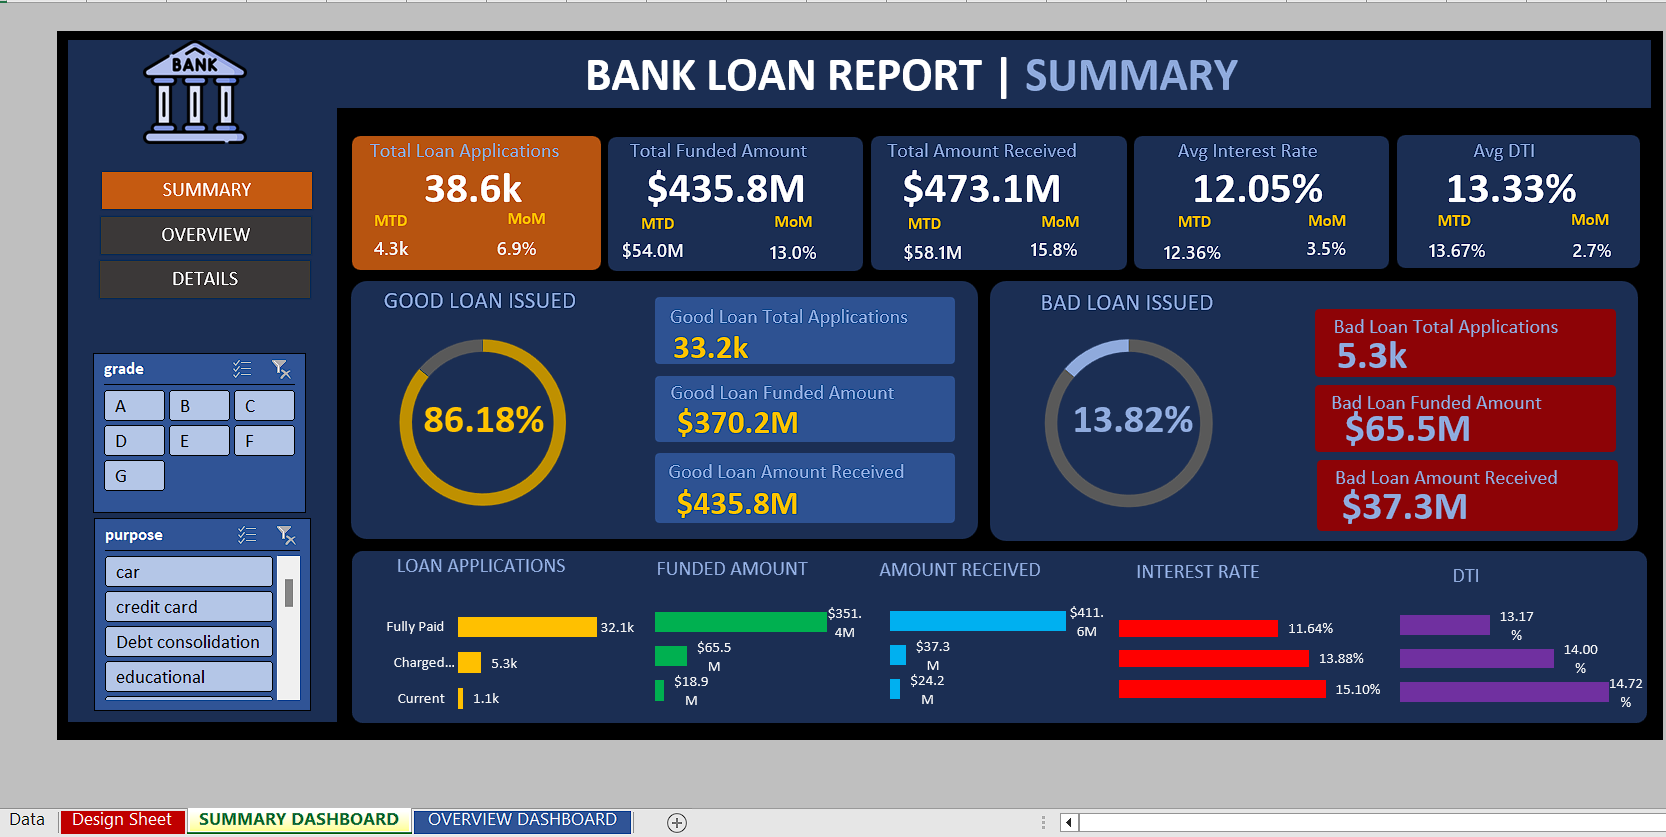

The page's visual inventory and layout, read from the dashboard file:
{"tool":"powerbi","page":{"name":"SUMMARY","canvas":[1280,720],"ordinal":0},"visuals":[{"type":"shape","box":[0,0,1279.6,55.5],"z":0},{"type":"shape","box":[199.6,65.9,194.6,119.6],"z":1000},{"type":"shape","box":[1.2,55.4,184.3,665.1],"z":2000},{"type":"textbox","box":[307.6,3.3,453.3,52.2],"z":3000},{"type":"card","fields":{"Values":["bank_loan_data.Total Loan Applications"]},"box":[194.3,94.8,194.6,41.3],"z":4000},{"type":"textbox","box":[209.6,67.6,179.3,34.8],"z":5000},{"type":"card","title":"MTD","fields":{"Values":["bank_loan_data.MTD Loan Applications"]},"box":[218.3,136.1,51.1,50],"z":6000},{"type":"card","title":"MoM","fields":{"Values":["bank_loan_data.MoM Loan Application"]},"box":[308.5,136.1,51.1,50],"z":7000},{"type":"shape","box":[408.6,68.5,194.6,117.4],"z":8000},{"type":"card","fields":{"Values":["bank_loan_data.Total Funded Amount"]},"box":[404.3,95.2,194.6,41.3],"z":9000},{"type":"textbox","box":[419.6,68,179.3,34.8],"z":10000},{"type":"card","title":"MTD","fields":{"Values":["bank_loan_data.MTD Funded Amount"]},"box":[428.3,137,72.8,50],"z":11000},{"type":"card","title":"MoM","fields":{"Values":["bank_loan_data.MoM Total Funded Amount"]},"box":[501.7,136.7,67.4,50],"z":12000},{"type":"shape","box":[617.7,68,194.6,117.4],"z":13000},{"type":"card","fields":{"Values":["bank_loan_data.Total Amount Received"]},"box":[616.3,94.6,194.6,41.3],"z":14000},{"type":"textbox","box":[627,67.6,179.3,34.8],"z":15000},{"type":"card","title":"MTD","fields":{"Values":["bank_loan_data.MTD Amount received"]},"box":[635.2,136.3,64.1,50],"z":16000},{"type":"card","title":"MoM","fields":{"Values":["bank_loan_data.MoM Total Amount Received"]},"box":[709.1,136.3,67.4,50],"z":17000},{"type":"shape","box":[826.7,67.2,194.6,117.4],"z":18000},{"type":"card","fields":{"Values":["bank_loan_data.Avg Interest Rate"]},"box":[827.4,93.7,194.6,41.3],"z":19000},{"type":"textbox","box":[838,66.8,179.3,34.8],"z":20000},{"type":"card","title":"MTD","fields":{"Values":["bank_loan_data.MTD Avg Int Rate"]},"box":[846.3,135.5,64.1,50],"z":21000},{"type":"card","title":"MoM","fields":{"Values":["bank_loan_data.MoM Avg Int Rate"]},"box":[919.5,136.1,70.7,49.1],"z":22000},{"type":"shape","box":[1036.1,69.9,203.6,118.1],"z":23000},{"type":"card","fields":{"Values":["bank_loan_data.Avg DTI"]},"box":[1035.2,97,194.6,41.3],"z":24000},{"type":"textbox","box":[1045.8,70,179.3,34.8],"z":25000},{"type":"card","title":"MTD","fields":{"Values":["bank_loan_data.MTD Avg DTI"]},"box":[1054.1,138.7,64.1,50],"z":26000},{"type":"card","title":"MoM","fields":{"Values":["bank_loan_data.MoM Avg DTI"]},"box":[1127.3,139.3,70.7,49.1],"z":27000},{"type":"shape","box":[200,201.2,509.6,260.2],"z":28000},{"type":"shape","box":[725.3,201.2,514.5,260.2],"z":29000},{"type":"donutChart","fields":{"Category":["bank_loan_data.Good vs Bad Loans"],"Y":["bank_loan_data.Total Loan Applications"]},"box":[200,216.9,240,230.1],"z":30000},{"type":"card","fields":{"Values":["bank_loan_data.Good Loan %"]},"box":[260.2,310.8,119.3,41],"z":31000},{"type":"textbox","box":[248.2,201.2,179.5,34.9],"z":32000},{"type":"cardVisual","fields":{"Data":["bank_loan_data.Good Loan Applications","bank_loan_data.Good Loan Funded Amount","bank_loan_data.Good Loan Received Amount"]},"box":[419.3,202.4,279.5,260.2],"z":33000},{"type":"donutChart","fields":{"Category":["bank_loan_data.Good vs Bad Loans"],"Y":["bank_loan_data.Total Loan Applications"]},"box":[716.9,220.5,241,230.1],"z":34000},{"type":"textbox","box":[777.1,202.4,179.5,34.9],"z":35000},{"type":"card","fields":{"Values":["bank_loan_data.Bad Loan %"]},"box":[796.4,314.5,119.3,41],"z":36000},{"type":"cardVisual","fields":{"Data":["bank_loan_data.Bad Loan Applications","bank_loan_data.Bad Loan Funded Amount","bank_loan_data.Bad Loan Received Amount"]},"box":[937.3,204.8,279.5,260.2],"z":37000},{"type":"shape","box":[200,474.7,1039.8,236.1],"z":38000},{"type":"tableEx","fields":{"Values":["bank_loan_data.loan_status","bank_loan_data.Total Loan Applications","bank_loan_data.Total Funded Amount","bank_loan_data.Total Amount Received","bank_loan_data.MTD Funded Amount","bank_loan_data.MTD Amount received","bank_loan_data.Avg Interest Rate","bank_loan_data.Avg DTI"]},"box":[209.6,509.6,1019.3,191.6],"z":39000},{"type":"textbox","box":[209.6,474.7,179.5,34.9],"z":40000},{"type":"slicer","fields":{"Values":["bank_loan_data.address_state"]},"box":[14.5,407.2,157.8,39.8],"z":41000},{"type":"textbox","box":[14.5,374.7,53,32.5],"z":42000},{"type":"slicer","fields":{"Values":["bank_loan_data.grade"]},"box":[15.7,489.2,157.8,39.8],"z":43000},{"type":"textbox","box":[15.7,456.6,67.5,32.5],"z":44000},{"type":"slicer","fields":{"Values":["bank_loan_data.purpose"]},"box":[14.5,592.8,157.8,39.8],"z":45000},{"type":"textbox","box":[15.7,560.2,67.5,32.5],"z":46000},{"type":"image","box":[42.2,55.4,106,108.4],"z":46001},{"type":"pageNavigator","box":[14.5,200,157.8,151.8],"z":46002}]}

Visuals, with their boxes on the page's 1280x720 design canvas (x1, y1, x2, y2). These are canvas units, not pixel positions in the 1666x837 screenshot, which may show the page scaled, cropped or inside an application window:
shape: 0 0 1280 56
shape: 200 66 394 186
shape: 1 55 186 720
textbox: 308 3 761 56
card - bank_loan_data.Total Loan Applications: 194 95 389 136
textbox: 210 68 389 102
"MTD" card: 218 136 269 186
"MoM" card: 308 136 360 186
shape: 409 68 603 186
card - bank_loan_data.Total Funded Amount: 404 95 599 136
textbox: 420 68 599 103
"MTD" card: 428 137 501 187
"MoM" card: 502 137 569 187
shape: 618 68 812 185
card - bank_loan_data.Total Amount Received: 616 95 811 136
textbox: 627 68 806 102
"MTD" card: 635 136 699 186
"MoM" card: 709 136 776 186
shape: 827 67 1021 185
card - bank_loan_data.Avg Interest Rate: 827 94 1022 135
textbox: 838 67 1017 102
"MTD" card: 846 136 910 186
"MoM" card: 920 136 990 185
shape: 1036 70 1240 188
card - bank_loan_data.Avg DTI: 1035 97 1230 138
textbox: 1046 70 1225 105
"MTD" card: 1054 139 1118 189
"MoM" card: 1127 139 1198 188
shape: 200 201 710 461
shape: 725 201 1240 461
donutChart - bank_loan_data.Good vs Bad Loans x bank_loan_data.Total Loan Applications: 200 217 440 447
card - bank_loan_data.Good Loan %: 260 311 380 352
textbox: 248 201 428 236
cardVisual - bank_loan_data.Good Loan Applications x bank_loan_data.Good Loan Funded Amount: 419 202 699 463
donutChart - bank_loan_data.Good vs Bad Loans x bank_loan_data.Total Loan Applications: 717 220 958 451
textbox: 777 202 957 237
card - bank_loan_data.Bad Loan %: 796 314 916 356
cardVisual - bank_loan_data.Bad Loan Applications x bank_loan_data.Bad Loan Funded Amount: 937 205 1217 465
shape: 200 475 1240 711
tableEx - bank_loan_data.loan_status x bank_loan_data.Total Loan Applications: 210 510 1229 701
textbox: 210 475 389 510
slicer - bank_loan_data.address_state: 14 407 172 447
textbox: 14 375 68 407
slicer - bank_loan_data.grade: 16 489 174 529
textbox: 16 457 83 489
slicer - bank_loan_data.purpose: 14 593 172 633
textbox: 16 560 83 593
image: 42 55 148 164
pageNavigator: 14 200 172 352
